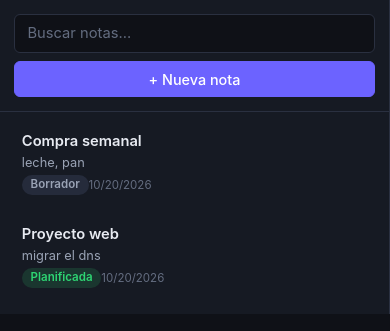
shows an empty state when the search has no results
Type "zzz" into the search field with placeholder "Buscar notas..." at (194, 33), box [14,14,375,53]
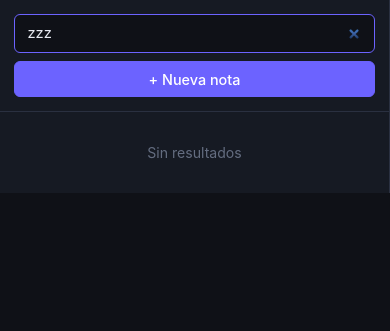
Expected: the list item "Sin resultados" is shown, [147,144,242,161]
